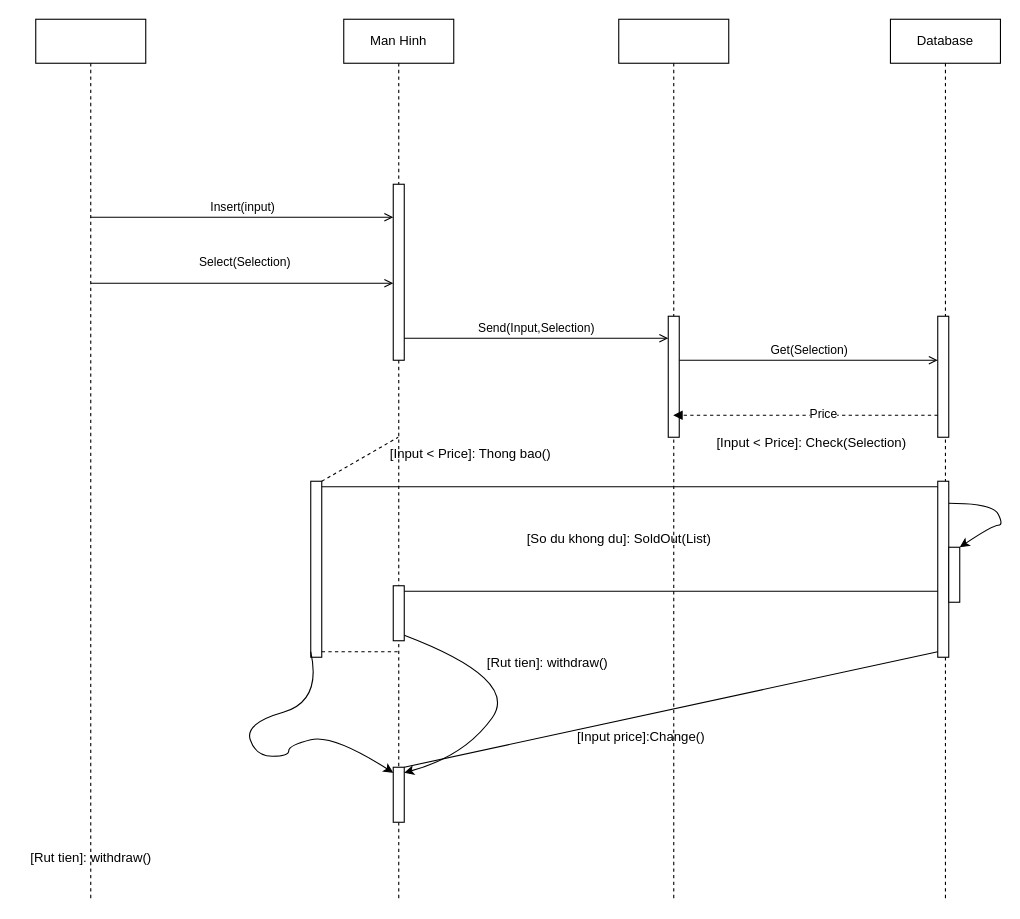
The diagram is 1020 pixels wide and 919 high, and some of its shapes have lost their labels. Here are the shapes that lost their labels. From the top down, the box of each, then its label:
(35, 18, 146, 899): :Object
(618, 18, 729, 899): Register
